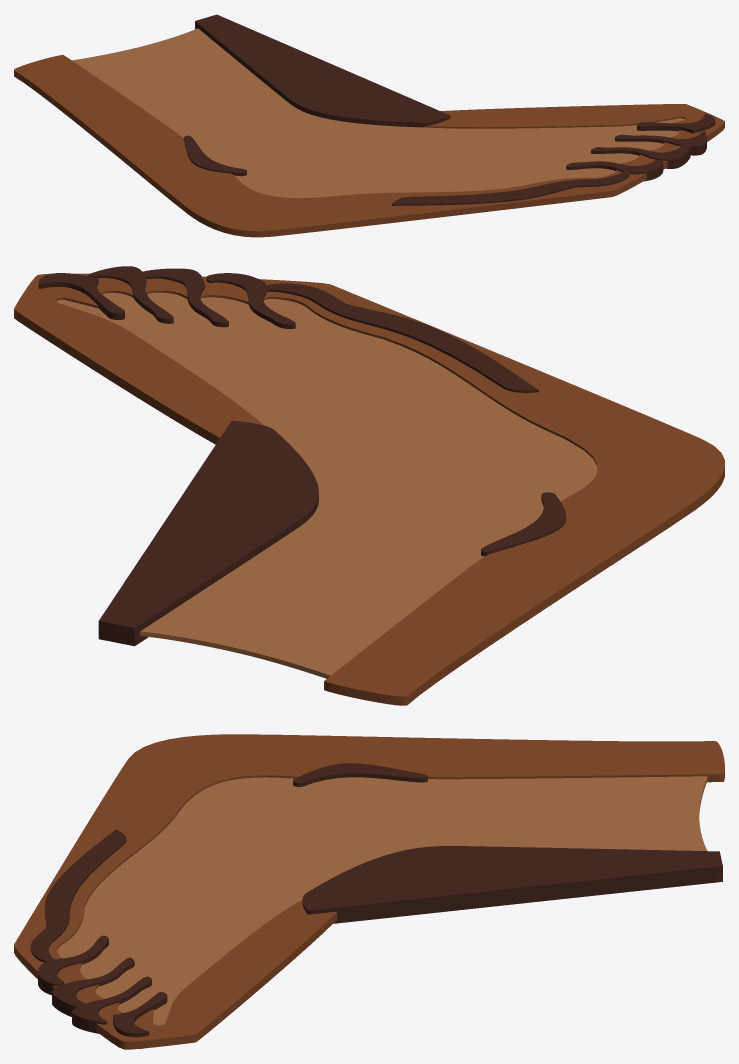
Rendered from emoji_u1f9b6_1f3fe.glb.
3 views of the same model, one above another, from view 1: azimuth 30°, elevation 25°; view 2: azimuth 150°, elevation 25°; view 3: azimuth 270°, elevation 25° (orthographic). The views are drawn at different scales.
Parts seen in each view (by area): view 1: emoji_u1f9b6_1f3fe; view 2: emoji_u1f9b6_1f3fe; view 3: emoji_u1f9b6_1f3fe.
Boxes of the visible parts, bbox=[...] form: emoji_u1f9b6_1f3fe: bbox=[14, 14, 724, 237]; emoji_u1f9b6_1f3fe: bbox=[14, 266, 724, 705]; emoji_u1f9b6_1f3fe: bbox=[14, 734, 724, 1049].
Size of the model in its own units: 0.0333 by 0.0008 by 0.0325.
